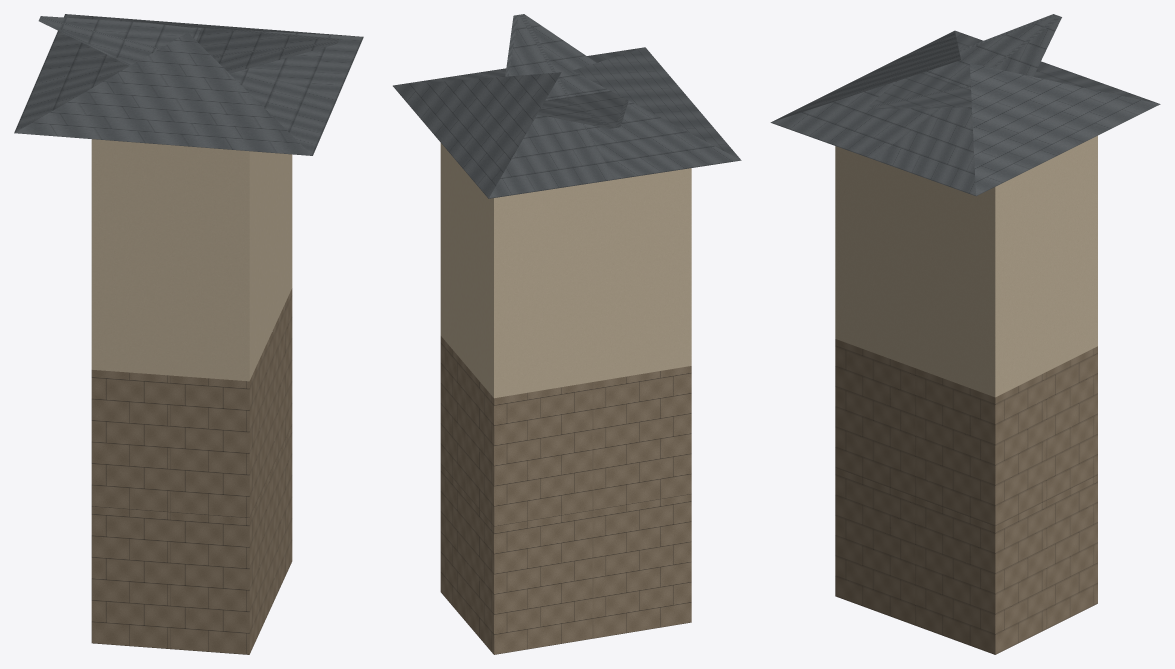
The model's file is bld_c40_48_193.gltf.
The picture shows the model from 3 angles, left to right: view 1: azimuth 30°, elevation 25°; view 2: azimuth 150°, elevation 25°; view 3: azimuth 270°, elevation 25°; orthographic projection. The views are drawn at different scales.
Parts seen in each view (by area): view 1: bld_c40_48_193; view 2: bld_c40_48_193; view 3: bld_c40_48_193.
Part boxes in pixels (x1,y1,x2,y2): bld_c40_48_193: [14, 14, 363, 654]; bld_c40_48_193: [393, 14, 741, 654]; bld_c40_48_193: [770, 14, 1160, 654].
Size of the model in its own units: 6.87 by 10.4 by 6.83.
Materials: 3 (3 with a texture image).
